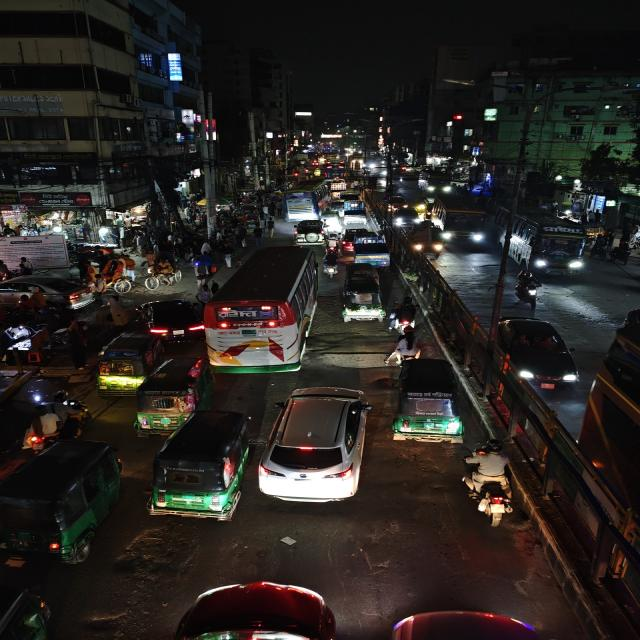bus: (204, 244, 322, 371), (496, 205, 596, 279), (431, 193, 488, 248), (281, 180, 331, 222)
car: (258, 383, 376, 507), (161, 579, 349, 640), (492, 313, 581, 392), (0, 272, 99, 310), (136, 296, 202, 336), (389, 207, 422, 227)
cng: (0, 438, 125, 568), (146, 407, 252, 523), (389, 356, 465, 446), (134, 356, 212, 438), (94, 332, 163, 389), (340, 264, 386, 324), (291, 218, 329, 243)
motorcycle: (458, 440, 518, 526), (25, 407, 62, 451), (388, 294, 421, 336), (514, 270, 548, 308), (322, 252, 340, 280)
pedestrian: (26, 406, 64, 453), (608, 241, 632, 267), (191, 252, 208, 284), (220, 241, 236, 269), (236, 230, 249, 249), (265, 218, 276, 238)
pickup_van: (351, 227, 394, 267), (404, 221, 446, 255), (340, 201, 370, 228)
rickshaw: (136, 255, 186, 292), (97, 262, 134, 296)
truck: (339, 227, 394, 267)
